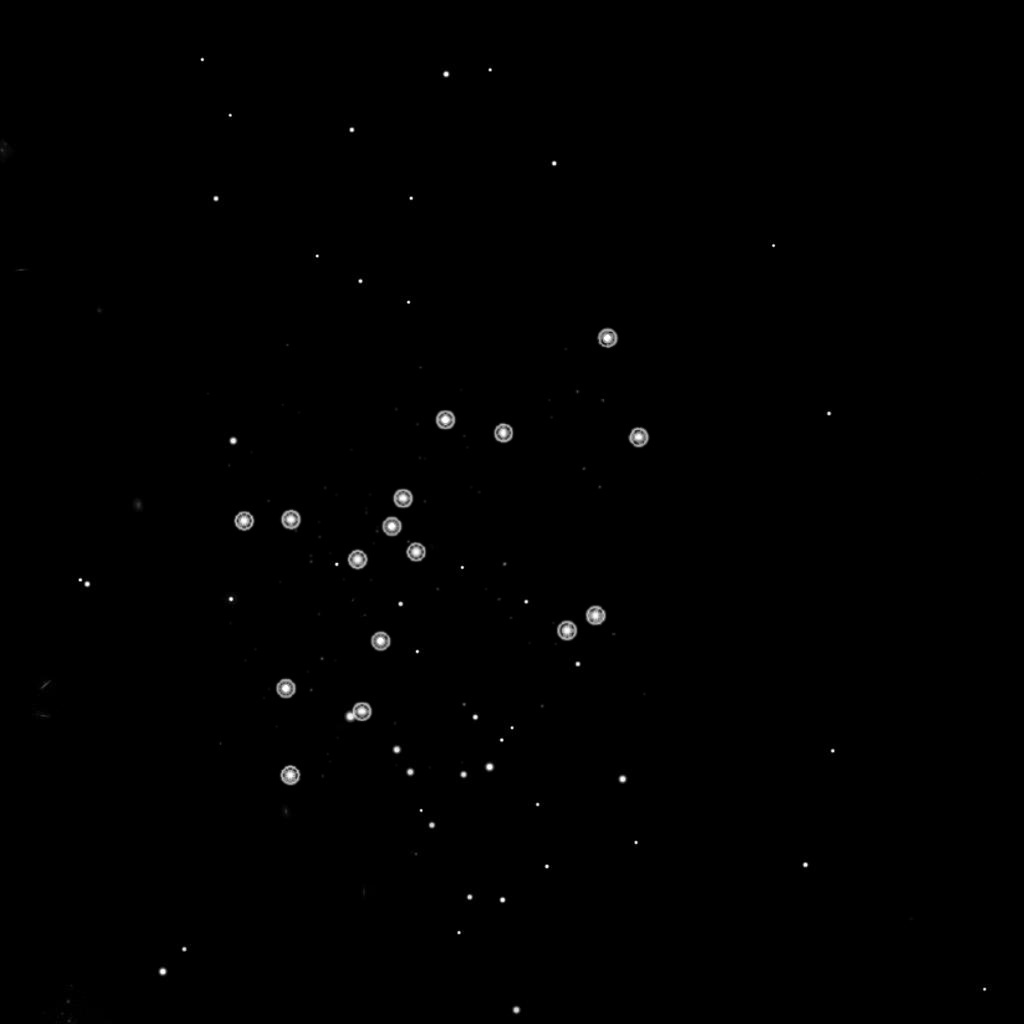canis_major: (342, 405, 519, 574)
